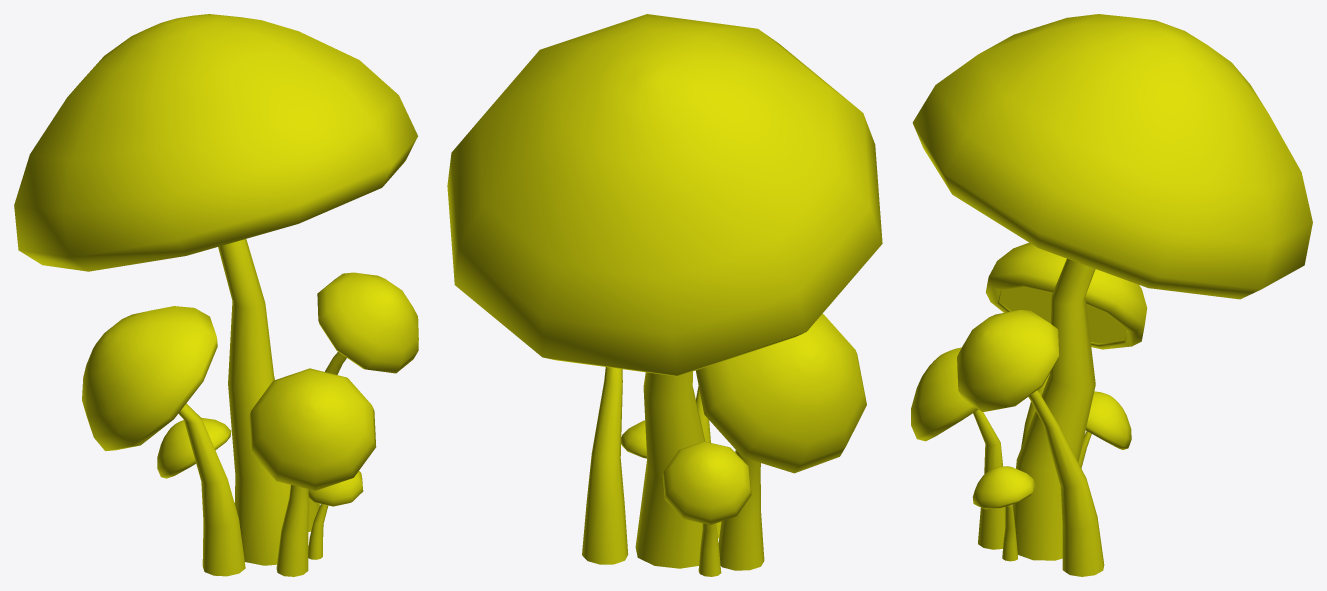
The model's file is mushrooms.fbx.
The picture shows the model from 3 angles, left to right: view 1: azimuth 30°, elevation 25°; view 2: azimuth 150°, elevation 25°; view 3: azimuth 270°, elevation 25°; orthographic projection. The views are drawn at different scales.
Visible parts, largest first — view 1: mushrooms_snailgame; view 2: mushrooms_snailgame; view 3: mushrooms_snailgame.
Boxes of the visible parts, bbox=[...] form: mushrooms_snailgame: bbox=[14, 14, 418, 576]; mushrooms_snailgame: bbox=[447, 14, 882, 576]; mushrooms_snailgame: bbox=[911, 14, 1312, 576].
Size of the model in its own units: 0.6166 by 0.8437 by 0.6118.
